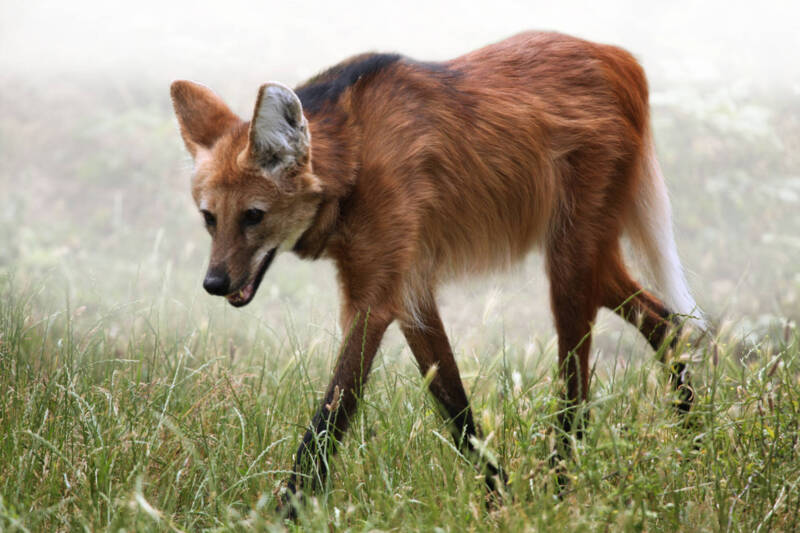LoboGuara: (164, 27, 727, 497)
